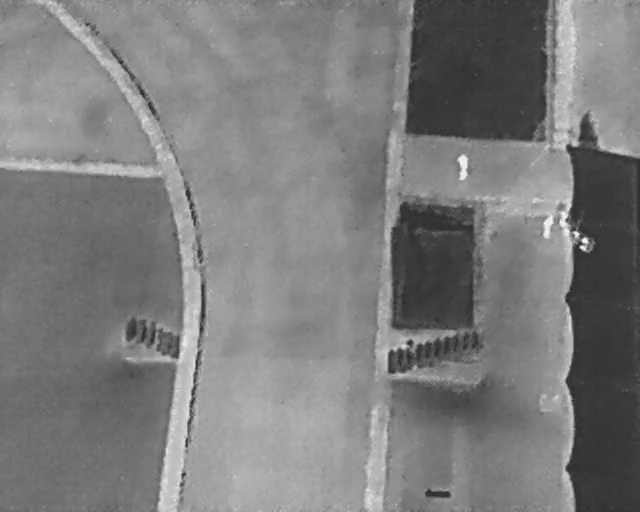Person: (539, 210, 557, 243), (455, 151, 471, 182)
